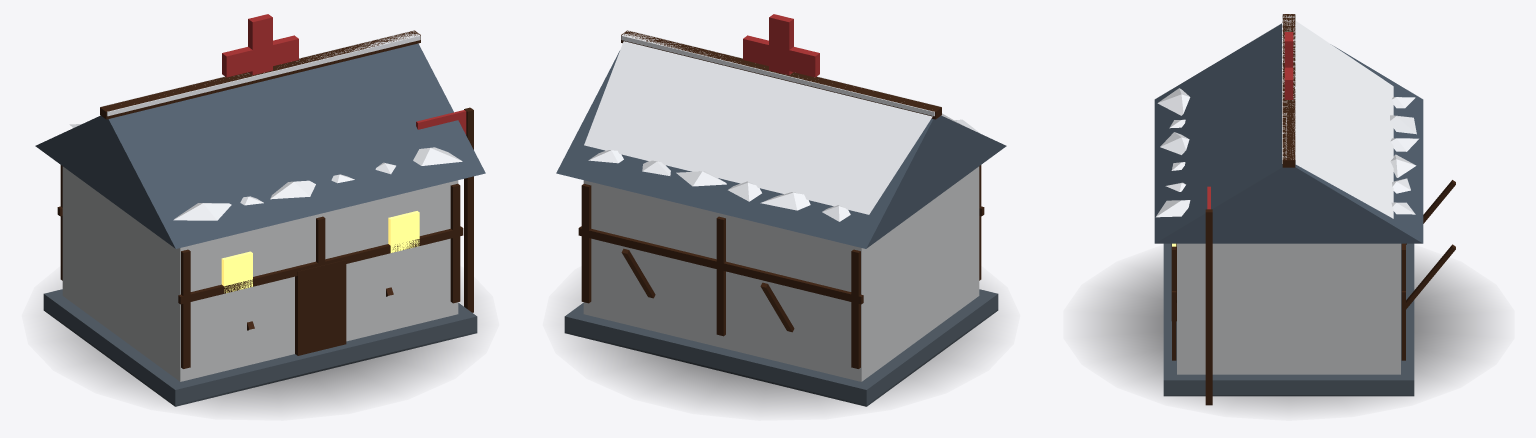
The model's file is infirmary_t1.glb.
3 renders of one model, left to right at view 1: azimuth 30°, elevation 25°; view 2: azimuth 150°, elevation 25°; view 3: azimuth 270°, elevation 25°, orthographic. The views are drawn at different scales.
Parts seen in each view (by area): view 1: infirmary_t1; view 2: infirmary_t1; view 3: infirmary_t1.
Part boxes in pixels (x1=…): infirmary_t1: x1=35, y1=14, x2=485, y2=407; infirmary_t1: x1=556, y1=14, x2=1006, y2=407; infirmary_t1: x1=1091, y1=14, x2=1486, y2=408.
Size of the model in its own units: 5.31 by 3.61 by 5.25.
